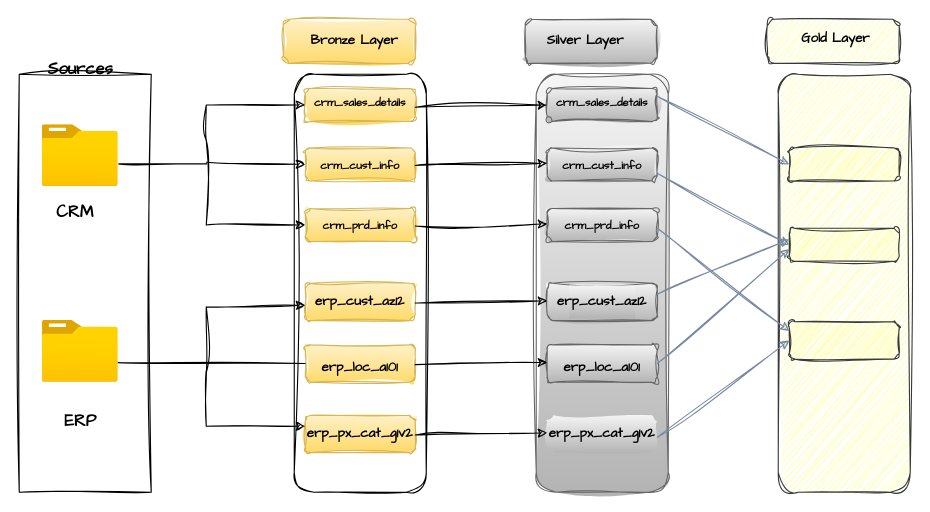
The diagram is 930 pixels wide and 512 high, and some of its shapes have lost their labels. Here are the shapes that lost their labels. From the top down, the centre of each, then its label:
pixel 843 164: fact_Sales
pixel 843 244: dim_customers
pixel 843 340: dim_products
